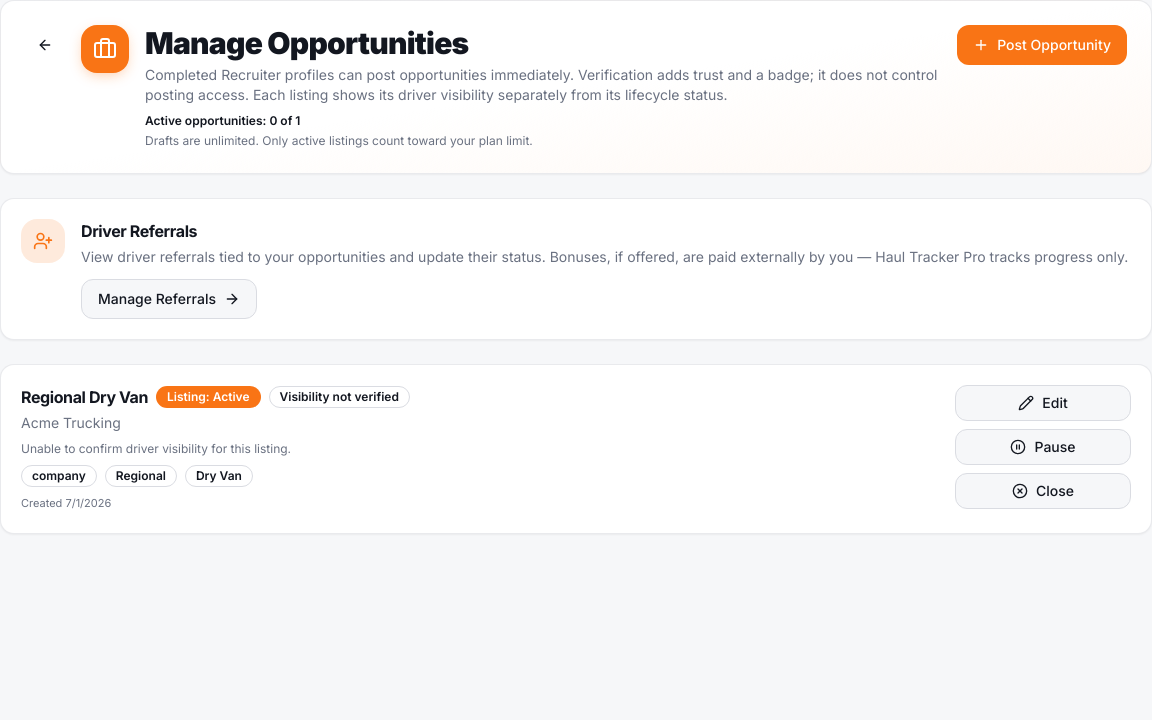
Test case: Phase 1L-DE1R2R1 — manager ↔ canonical form › edit routes into the same canonical form and hydrates canonical values
The image size is (1152, 720).
Click the button "Edit" at (1043, 403), box [955,385,1131,421]
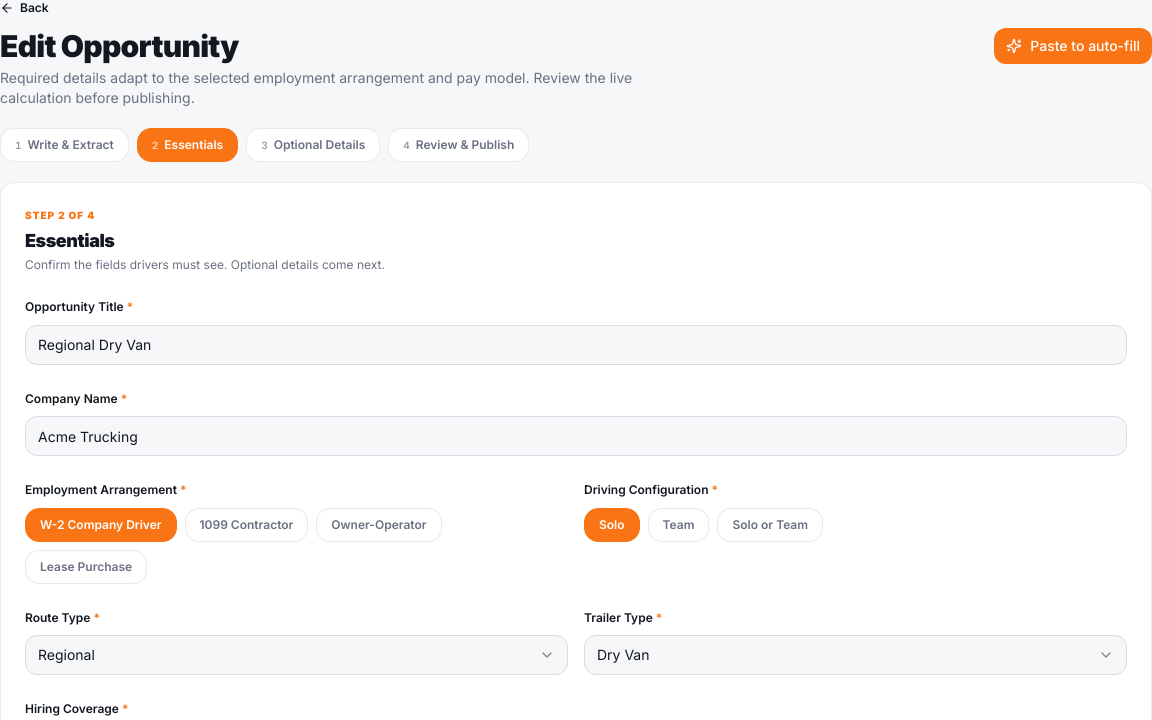
Now the heading "Edit Opportunity" is shown, box [0,28,239,64]
Now the field named "Opportunity Title" holds "Regional Dry Van", box [25,325,1127,365]
Now the field named "Company Name" holds "Acme Trucking", box [25,416,1127,456]
// Transparency confirmation lives on the Review stage — navigate to verify hydration.
Click the tab "4Review & Publish" at (459, 145), box [388,128,529,162]
(page scrolled)
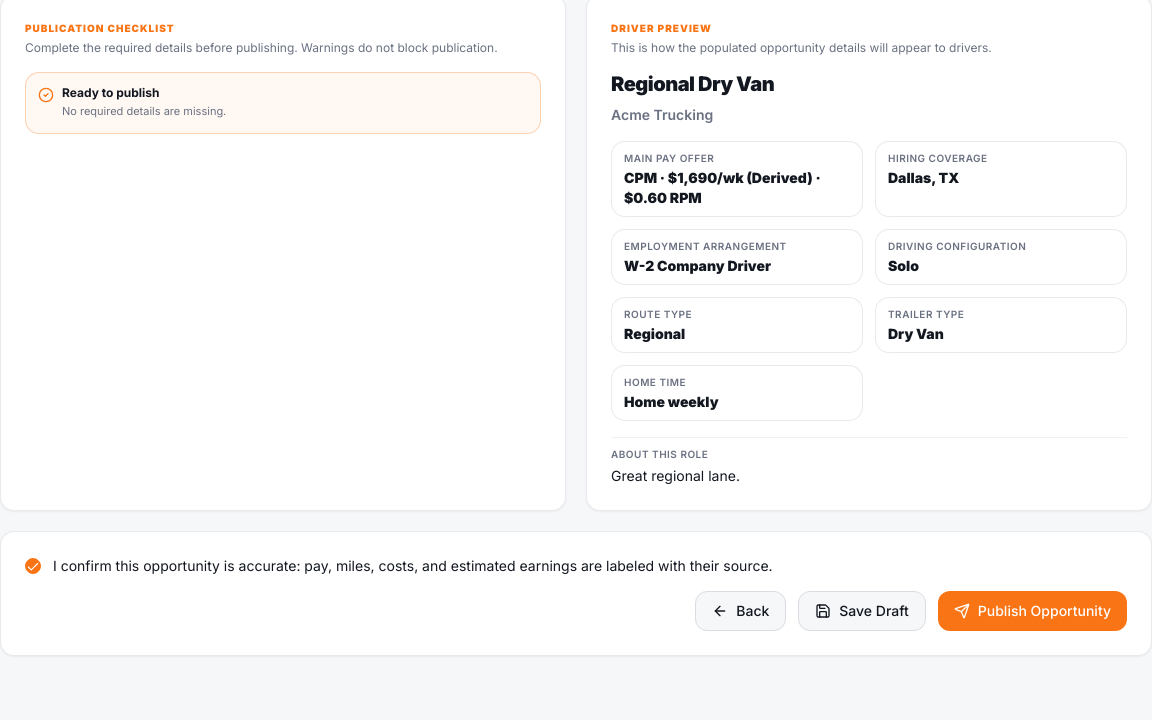
Now the checkbox named "Transparency confirmation" is checked, box [25,558,41,574]
